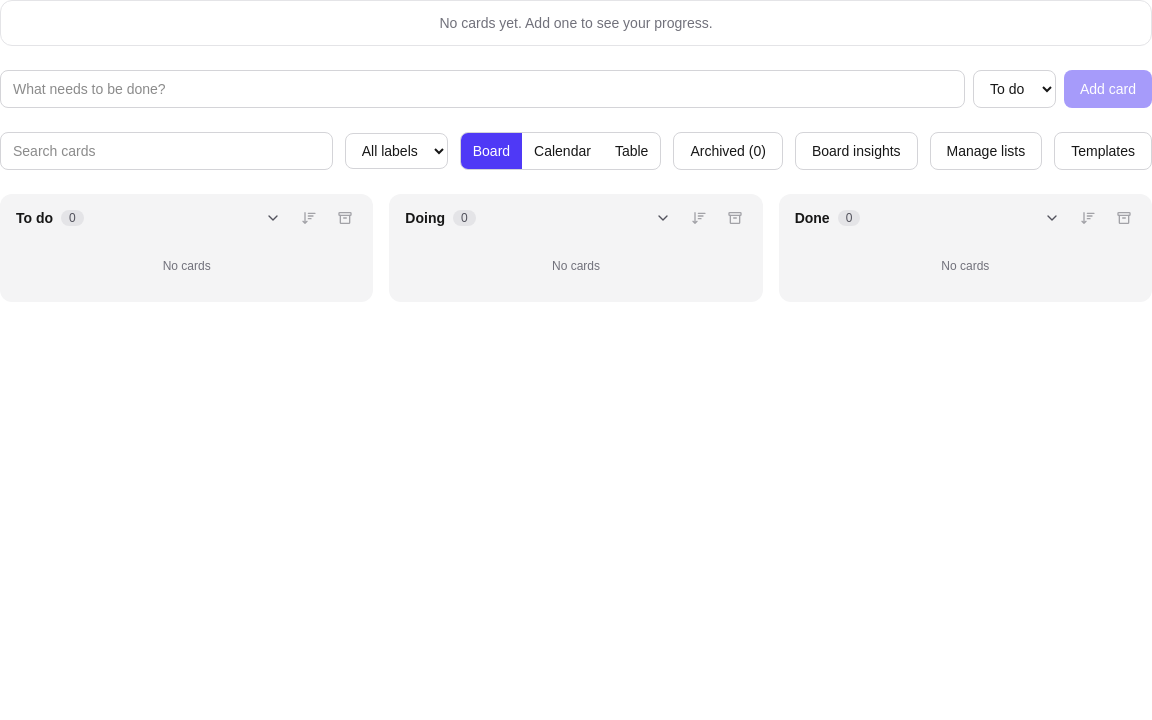
Test: <Board /> custom lists › points insights to Settings when no list is chosen
Step 1. Click the button "Board insights" → [856, 151], box [795,132,918,170]
(page scrolled)
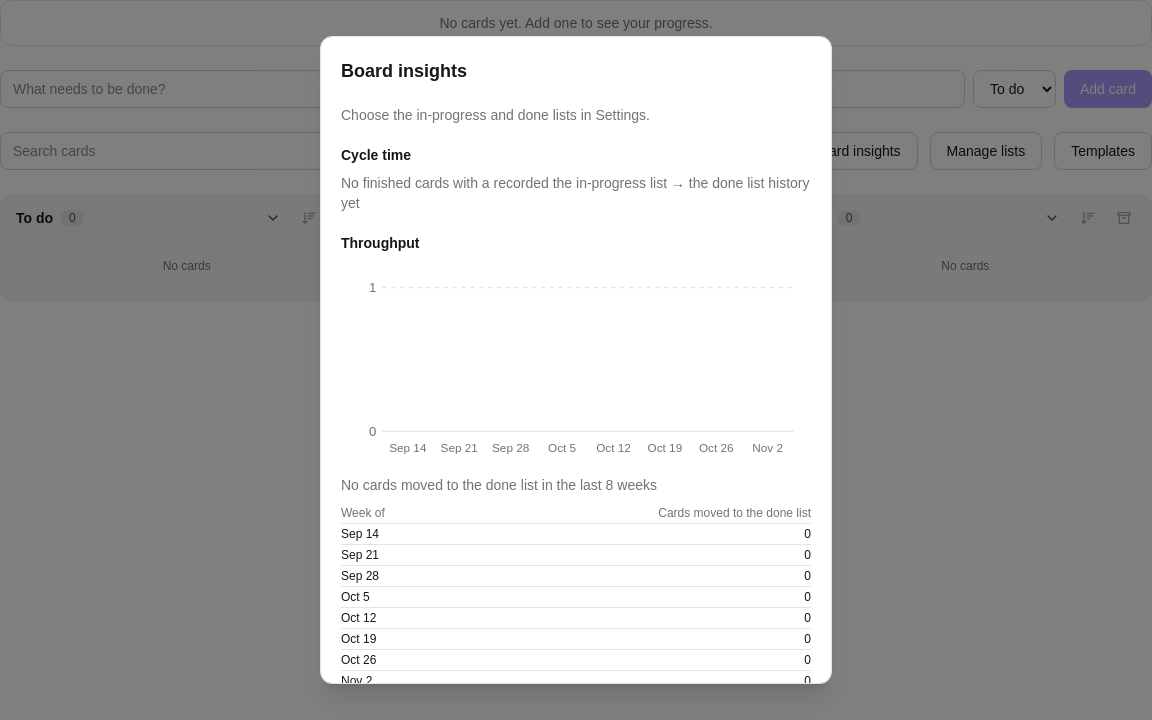
expect the text "Choose the in-progress and done lists in Settings." is shown: met, box [341,107,650,123]
